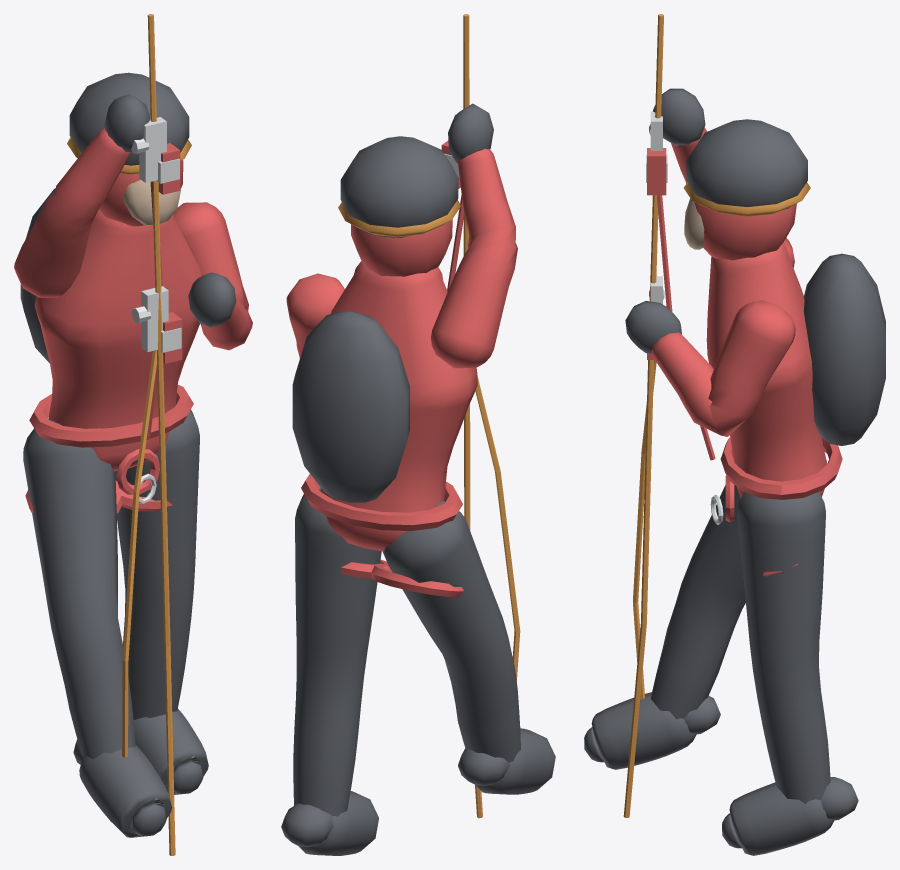
Rendered from mountaineering-and-summit-expedition-climber-ascending-f44953c3__18787.glb.
3 views of the same model, side by side, from view 1: azimuth 30°, elevation 25°; view 2: azimuth 150°, elevation 25°; view 3: azimuth 270°, elevation 25° (orthographic). The views are drawn at different scales.
Parts seen in each view (by area): view 1: climber-ascending-fixed-rope; view 2: climber-ascending-fixed-rope; view 3: climber-ascending-fixed-rope.
Boxes of the visible parts, bbox=[...] form: climber-ascending-fixed-rope: bbox=[14, 14, 252, 855]; climber-ascending-fixed-rope: bbox=[281, 14, 555, 855]; climber-ascending-fixed-rope: bbox=[584, 14, 885, 855].
Size of the model in its own units: 0.5398 by 2.06 by 0.7007.
